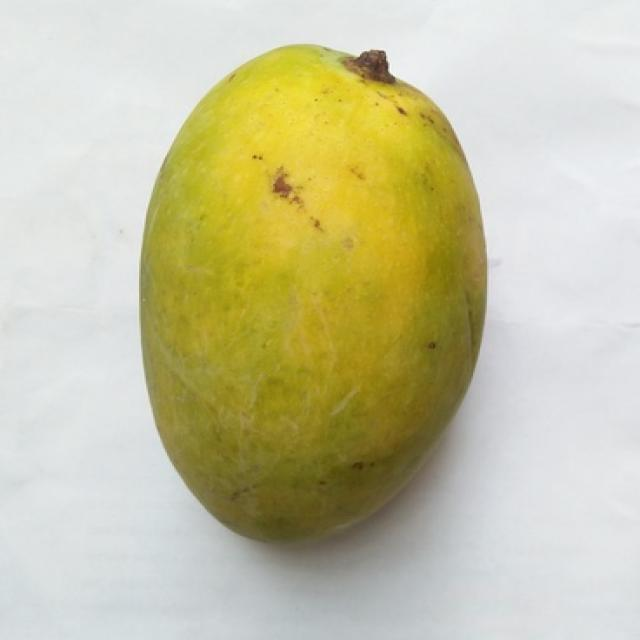Mango: (141, 46, 485, 540)
